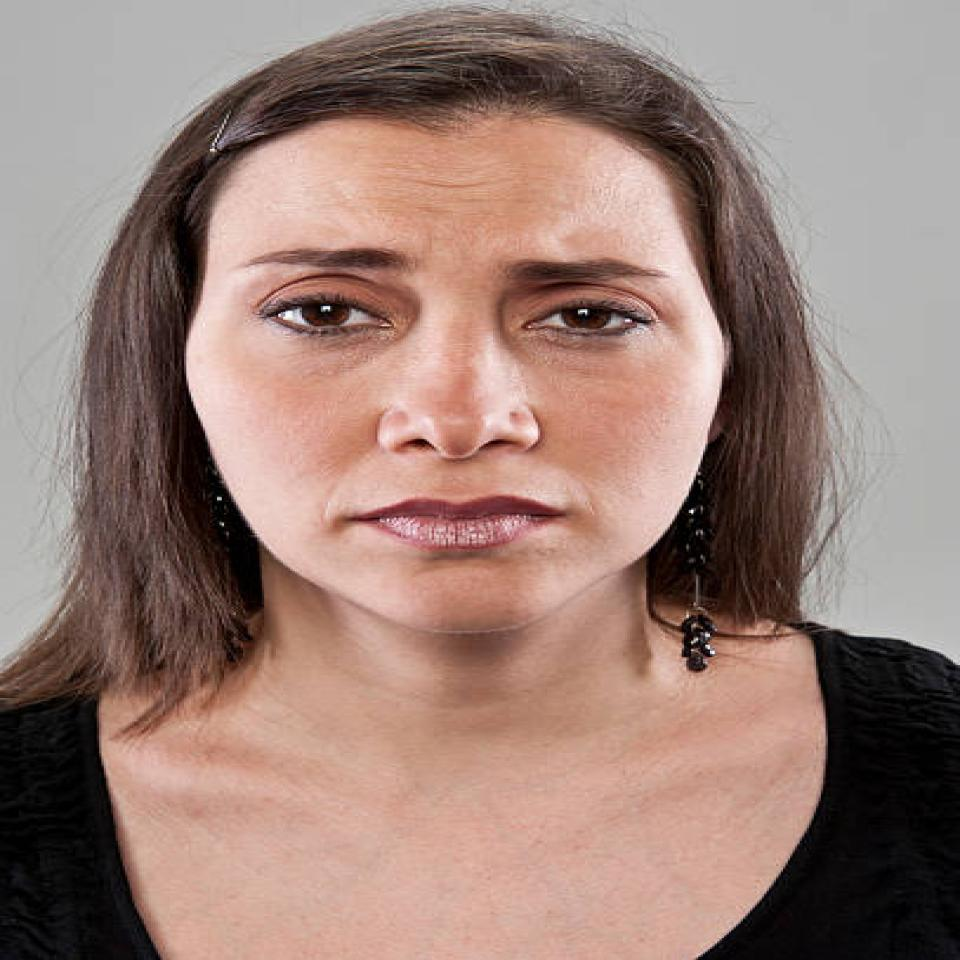Sadness: (180, 131, 750, 629)
